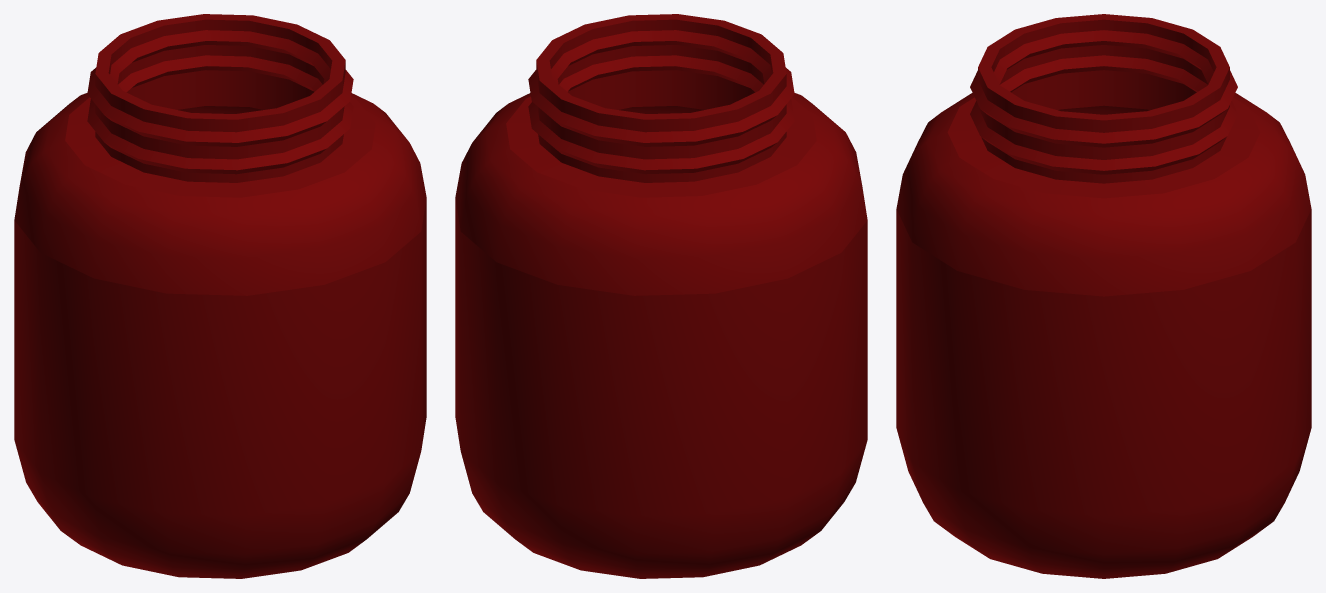
The model's file is befott_red.FBX.
The picture shows the model from 3 angles, left to right: view 1: azimuth 30°, elevation 25°; view 2: azimuth 150°, elevation 25°; view 3: azimuth 270°, elevation 25°; orthographic projection.
Visible parts, largest first — view 1: Line001; view 2: Line001; view 3: Line001.
Part boxes in pixels (x1,y1,x2,y2): Line001: (14,14,426,578); Line001: (455,14,867,578); Line001: (896,14,1311,578).
Bounding box in the file's own units: 52.14 × 62.74 × 52.14.
